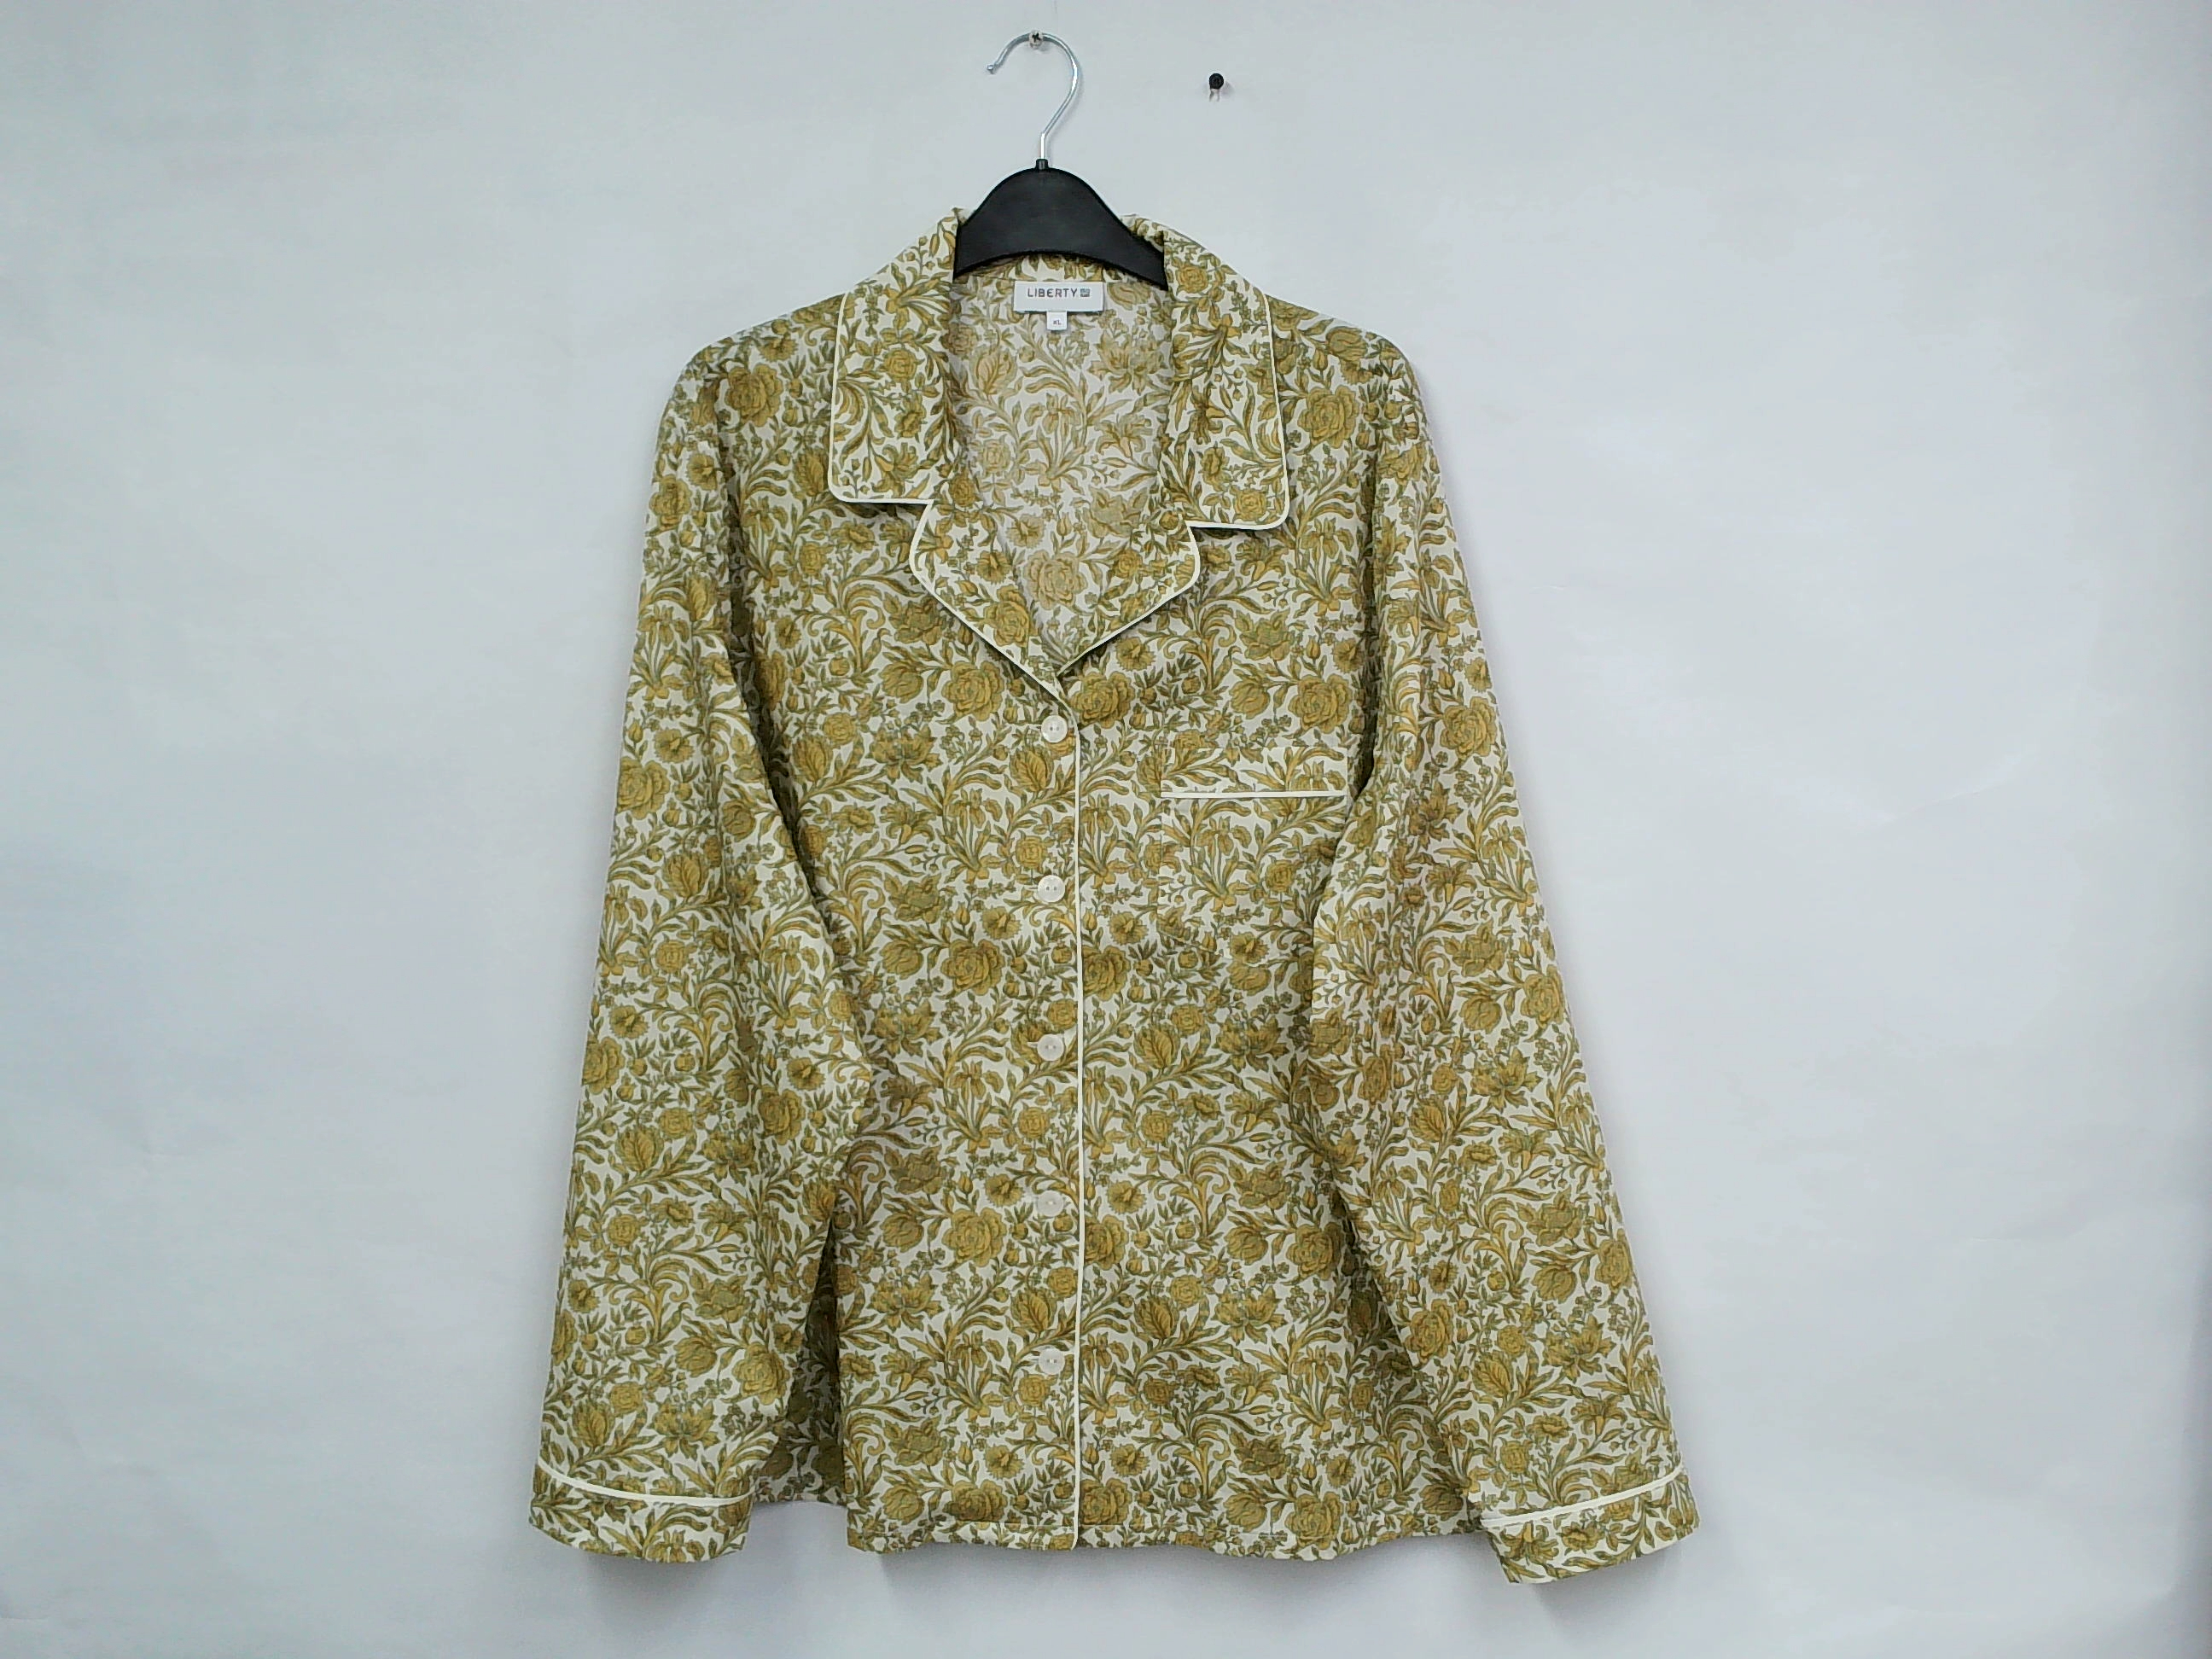seam: (540, 1452, 759, 1544)
